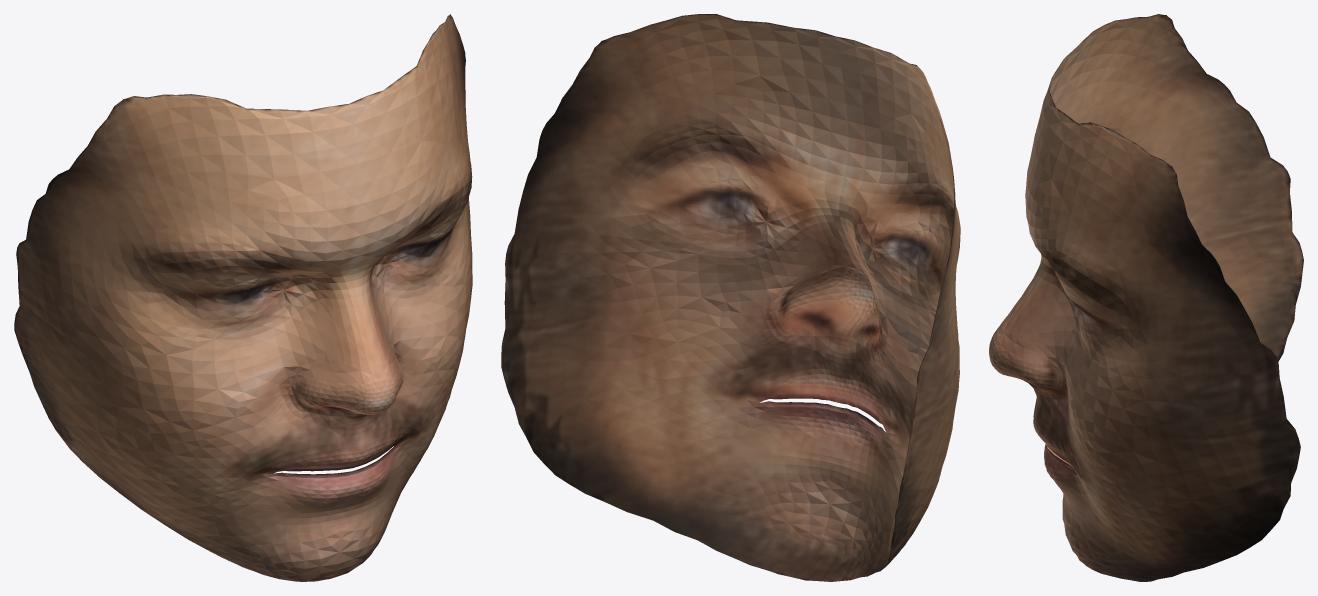
Rendered from dicaPitt.obj.
3 renders of one model, left to right at view 1: azimuth 30°, elevation 25°; view 2: azimuth 150°, elevation 25°; view 3: azimuth 270°, elevation 25°, orthographic. The views are drawn at different scales.
Size of the model in its own units: 154 by 184 by 107.
